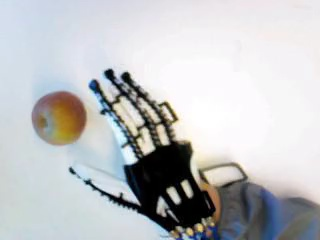apple: (30, 88, 87, 146)
hand: (69, 67, 215, 238)
